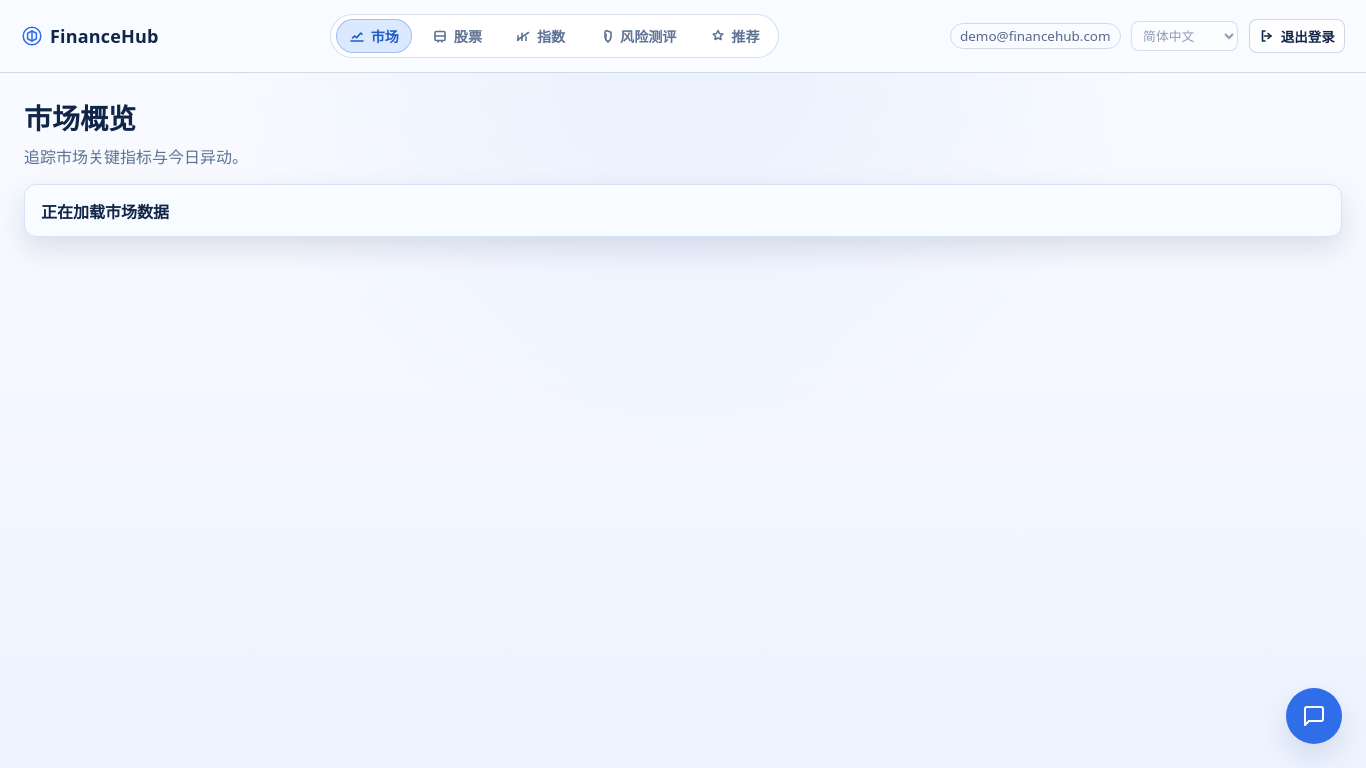
it: App localization › keeps the shell usable after changing locales multiple times
Select "English (US)" in the dropdown: (1185, 36) [1131,21,1238,51]
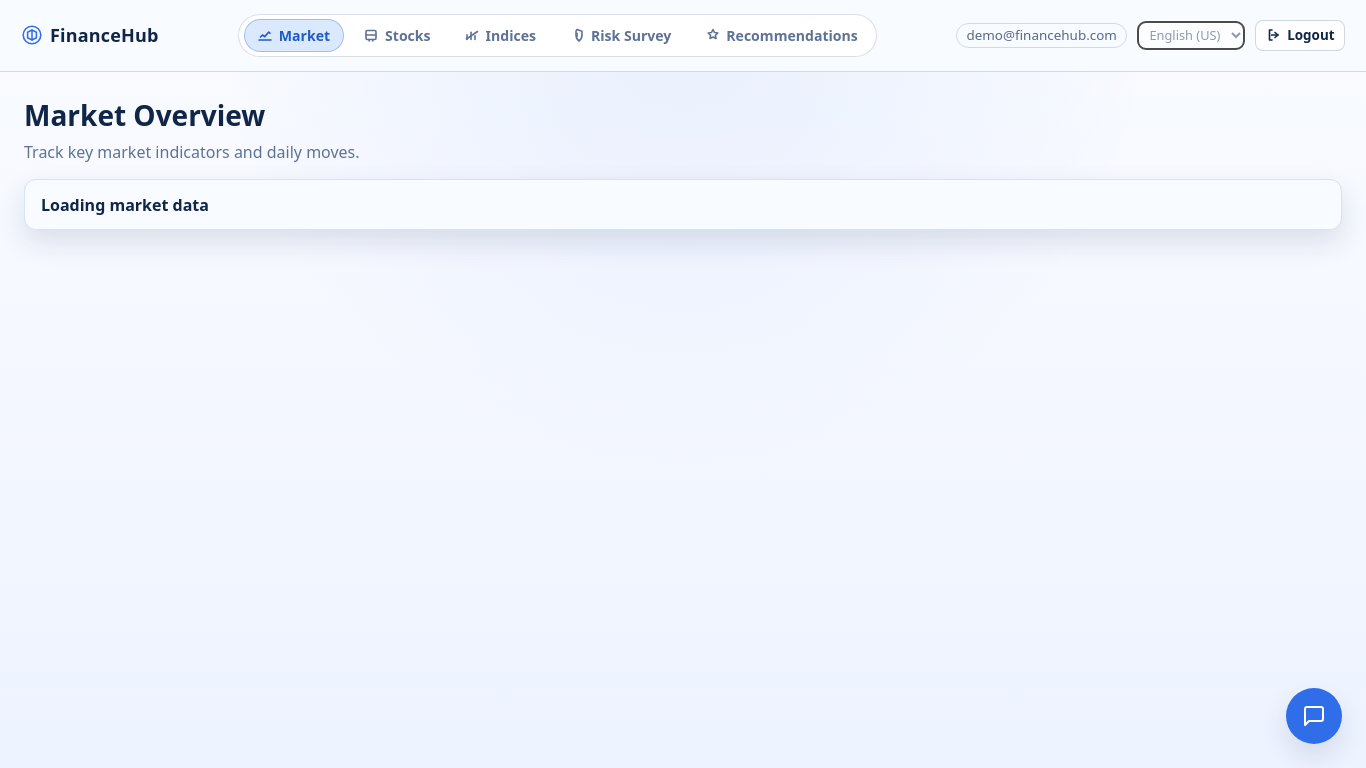
Select "简体中文" in the dropdown: (1191, 36) [1137,21,1245,50]
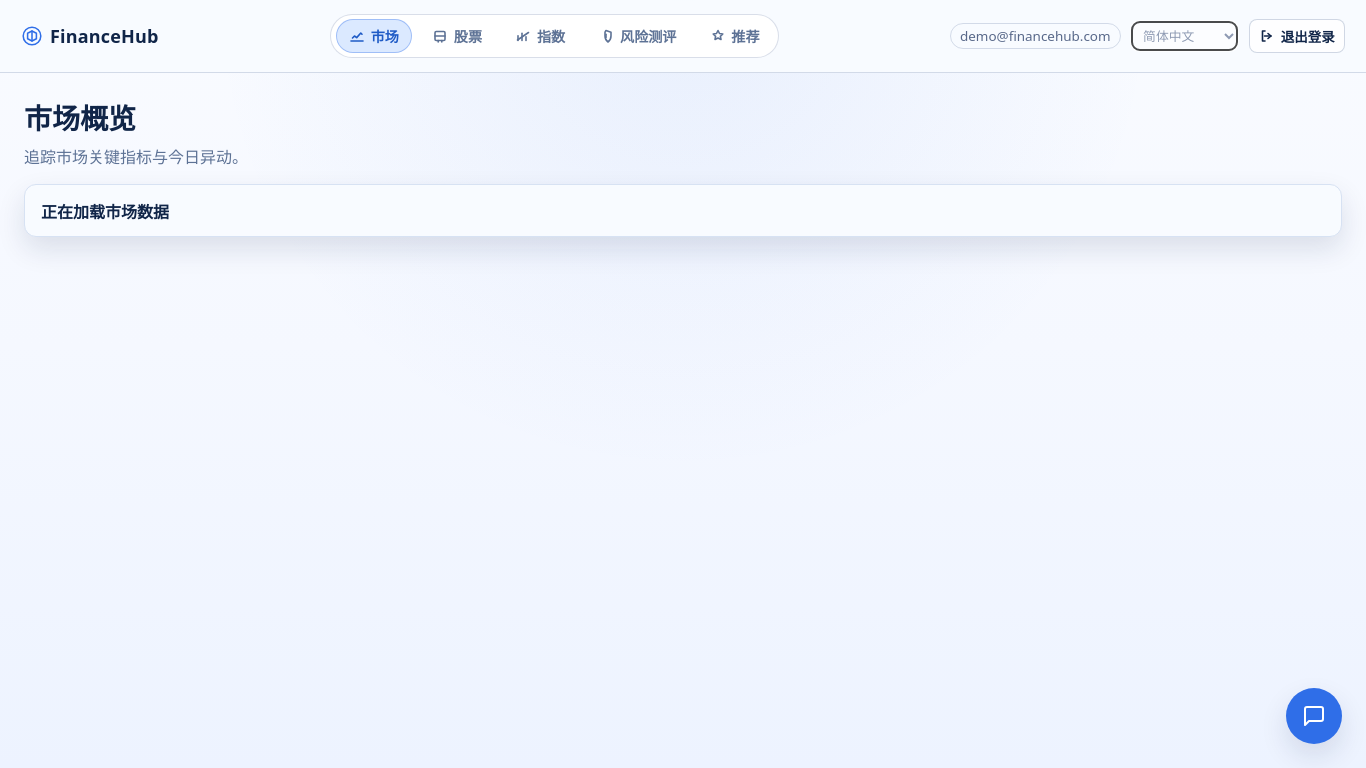
expect the link "市场" is shown: met, box [336,19,412,53]
expect the heading "市场概览" is shown: met, box [24,99,136,137]
